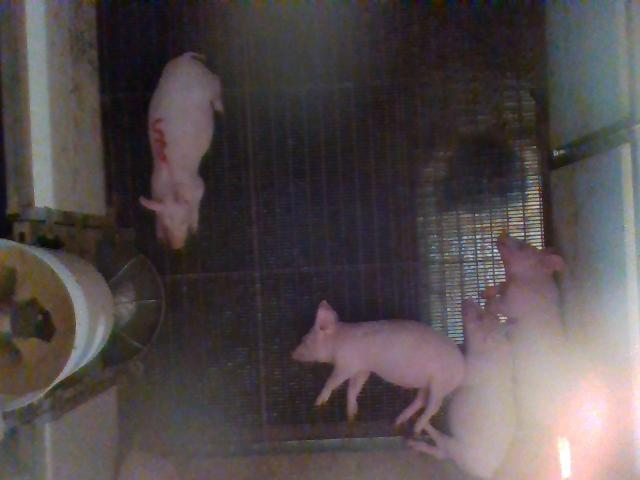pig-3: (139, 52, 222, 249)
